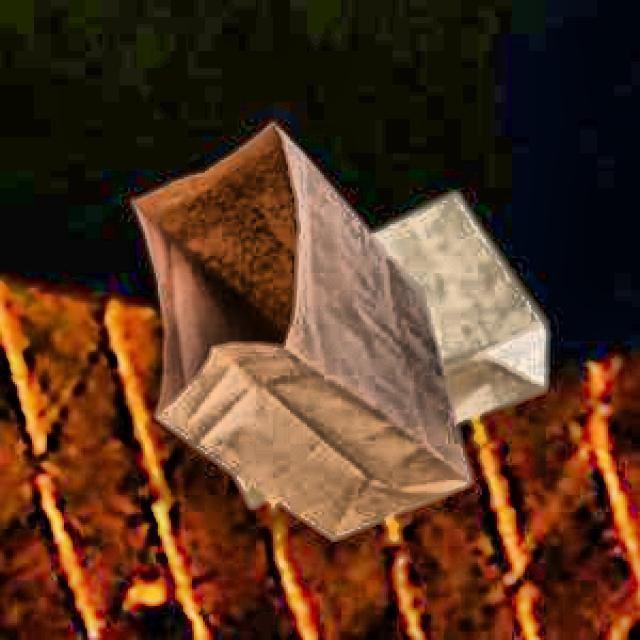Paper-bag: (132, 117, 482, 554), (164, 184, 558, 517)
